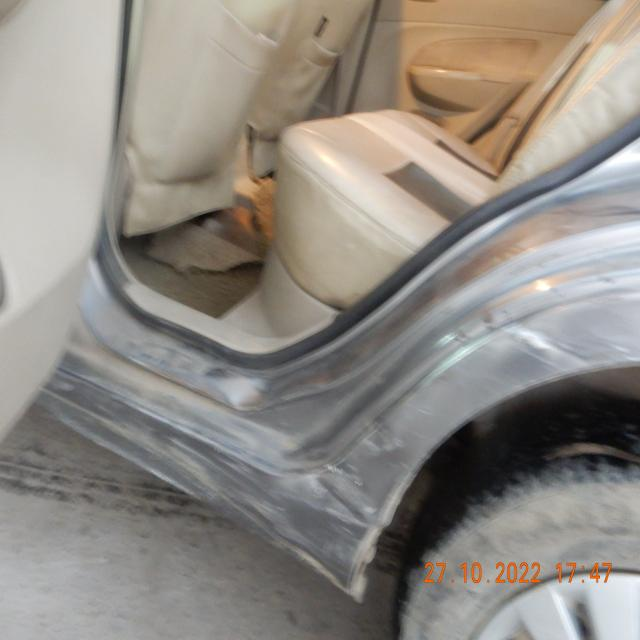damage: (68, 361, 383, 560), (509, 313, 589, 380)
